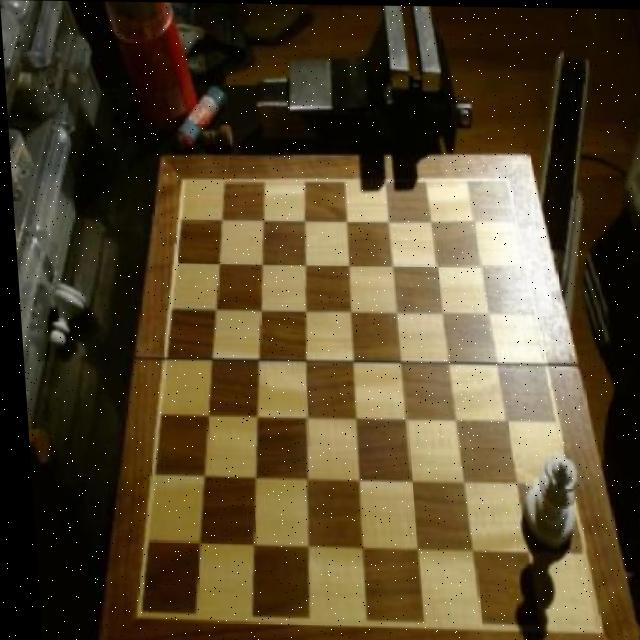white-pawn: (517, 444, 580, 549)
